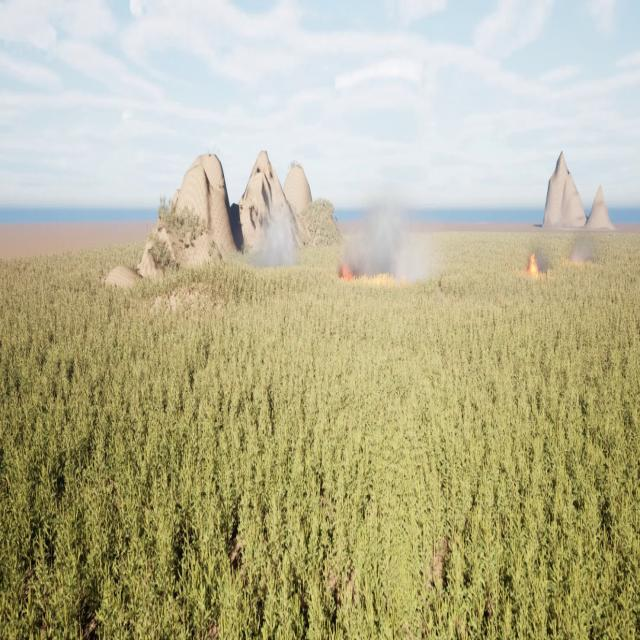fire: (336, 260, 362, 280), (524, 253, 539, 272)
smoke: (331, 188, 440, 280), (249, 205, 295, 265), (526, 239, 553, 273), (569, 231, 596, 259)
